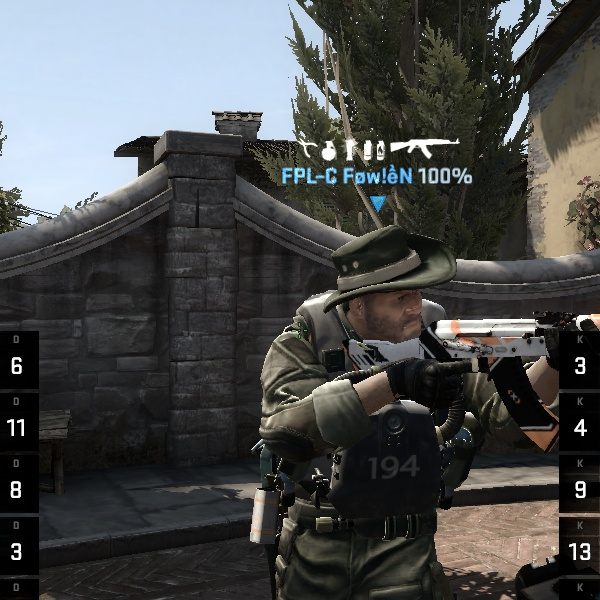ct_body: (199, 222, 584, 600)
ct_head: (304, 224, 485, 382)
